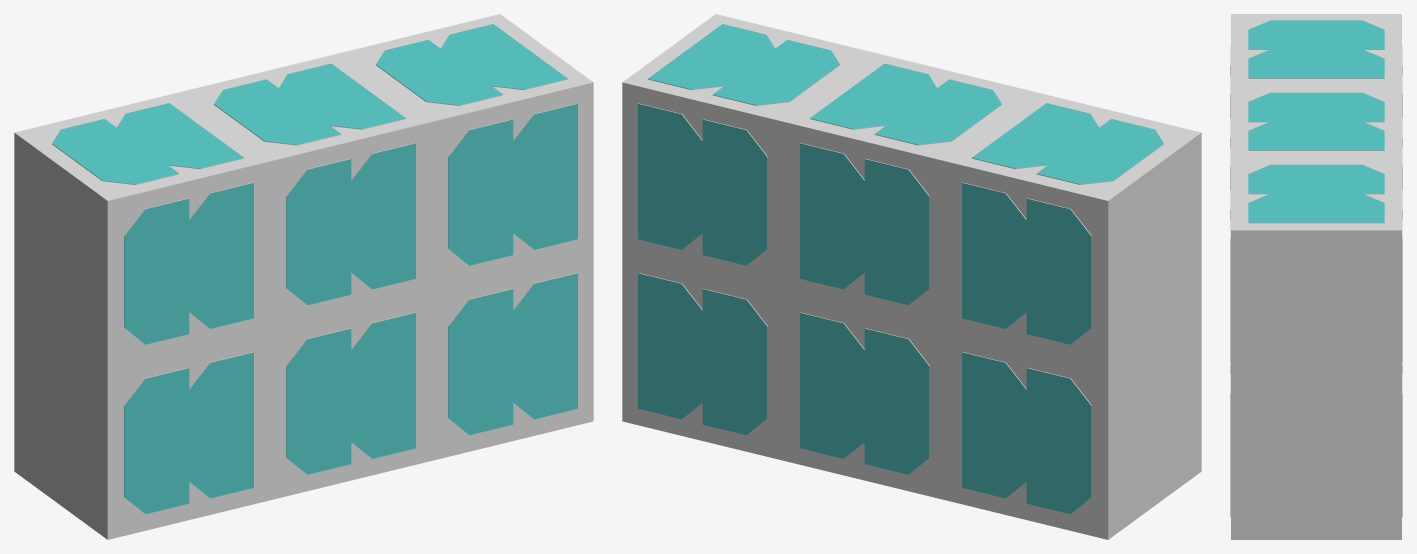
Rendered from 6U_SP4Sides.dae.
The picture shows the model from 3 angles, left to right: view 1: azimuth 30°, elevation 25°; view 2: azimuth 150°, elevation 25°; view 3: azimuth 270°, elevation 25°; orthographic projection. The views are drawn at different scales.
Visible parts, largest first — view 1: _U_SP4Sides, Y_Minus_Cells, Z_Plus_Cells; view 2: _U_SP4Sides, Y_Plus_Cells, Z_Plus_Cells; view 3: _U_SP4Sides, Z_Plus_Cells.
Part boxes in pixels (x1,y1,x2,y2): _U_SP4Sides: (14,14,593,539); Y_Minus_Cells: (124,103,577,514); Z_Plus_Cells: (52,24,567,184); _U_SP4Sides: (622,14,1201,539); Y_Plus_Cells: (638,103,1091,514); Z_Plus_Cells: (648,24,1163,184); _U_SP4Sides: (1230,14,1402,539); Z_Plus_Cells: (1248,20,1384,222).
Bounding box in the file's own units: 0.3 × 0.101 × 0.201.
